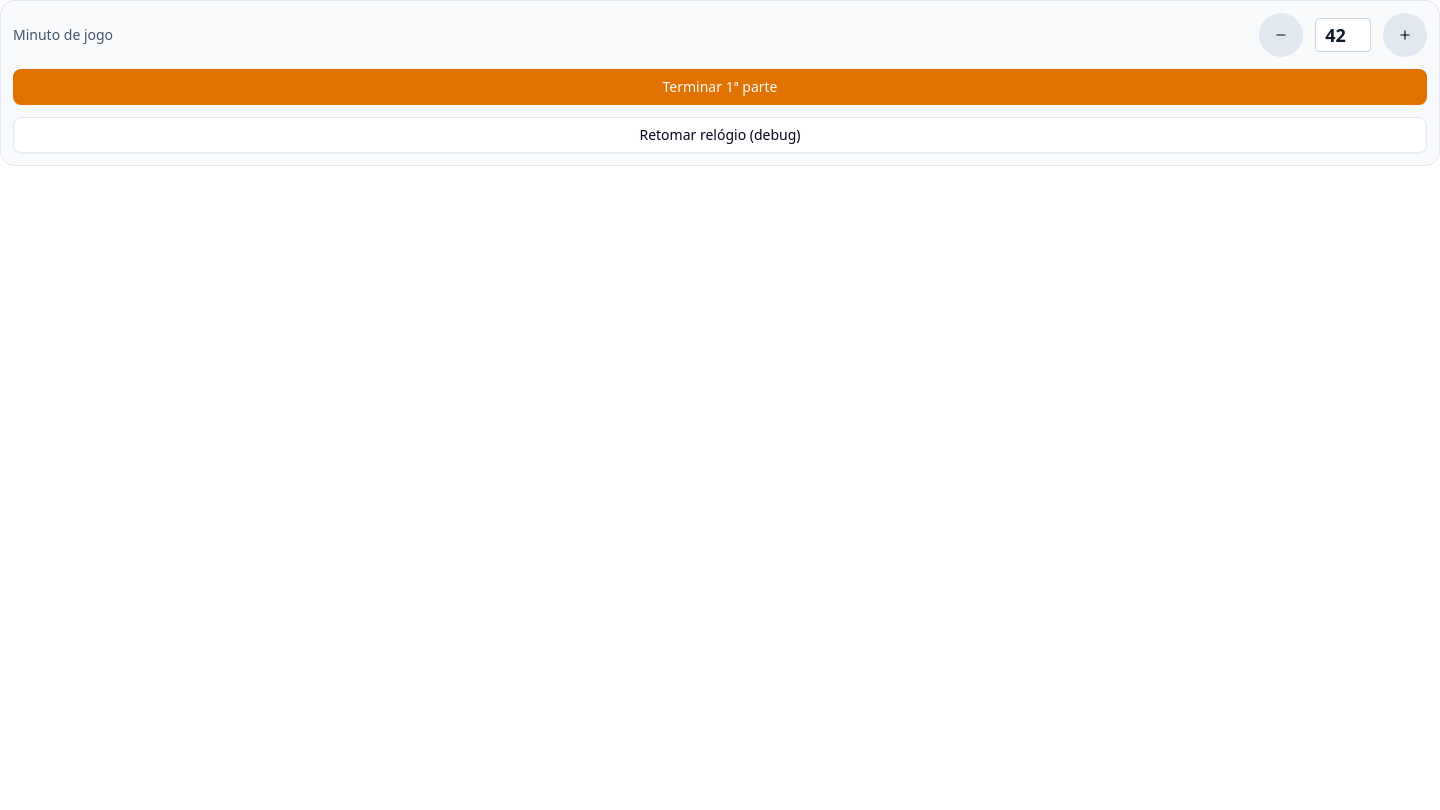
Test: ClockControls — confirmation dialog › [#3] premir Escape equivale a Cancelar
The image size is (1440, 810).
Click the button "Terminar 1ª parte".
click(720, 87)  # box [13, 69, 1427, 105]
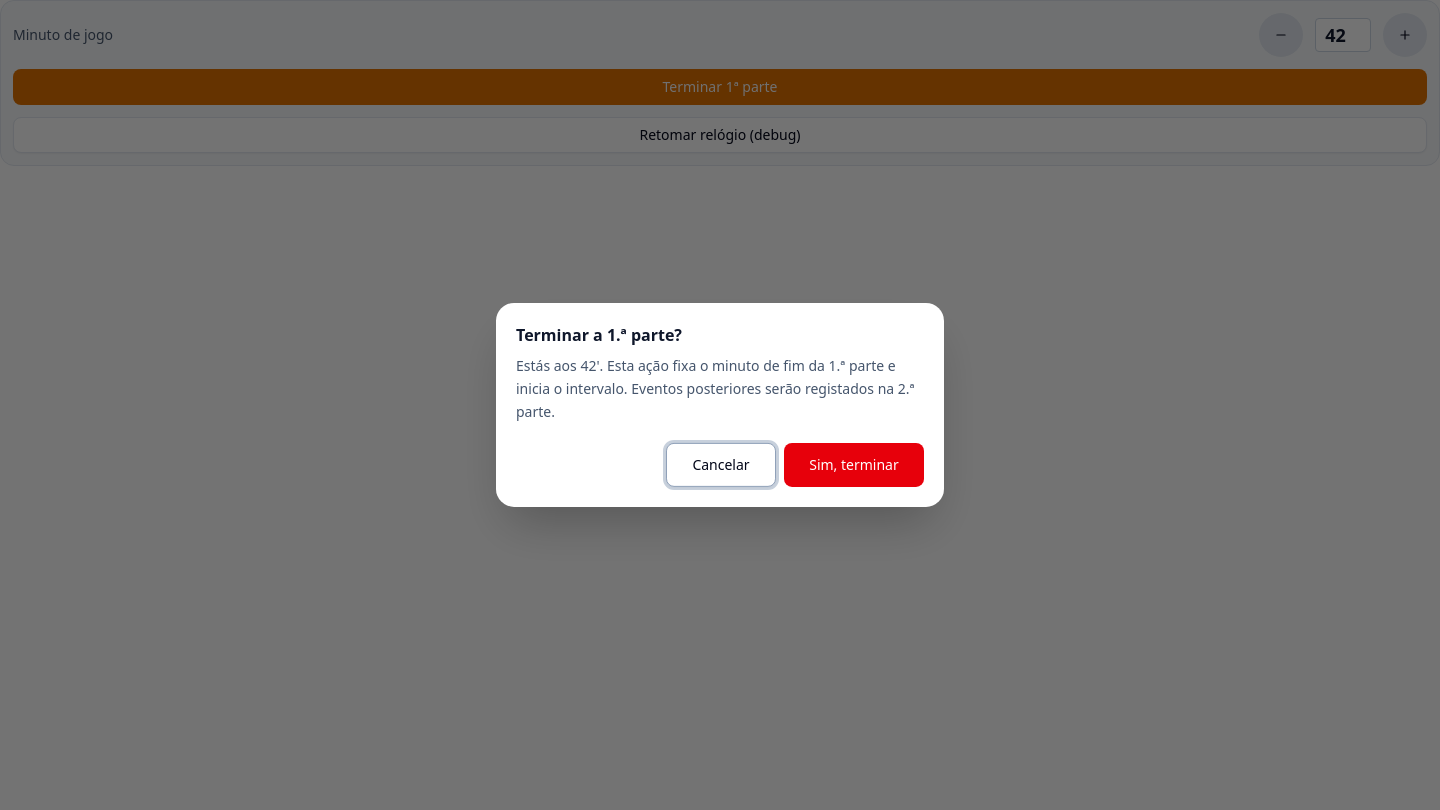
Expected: the dialog is shown, [496, 303, 944, 507]
Press Escape
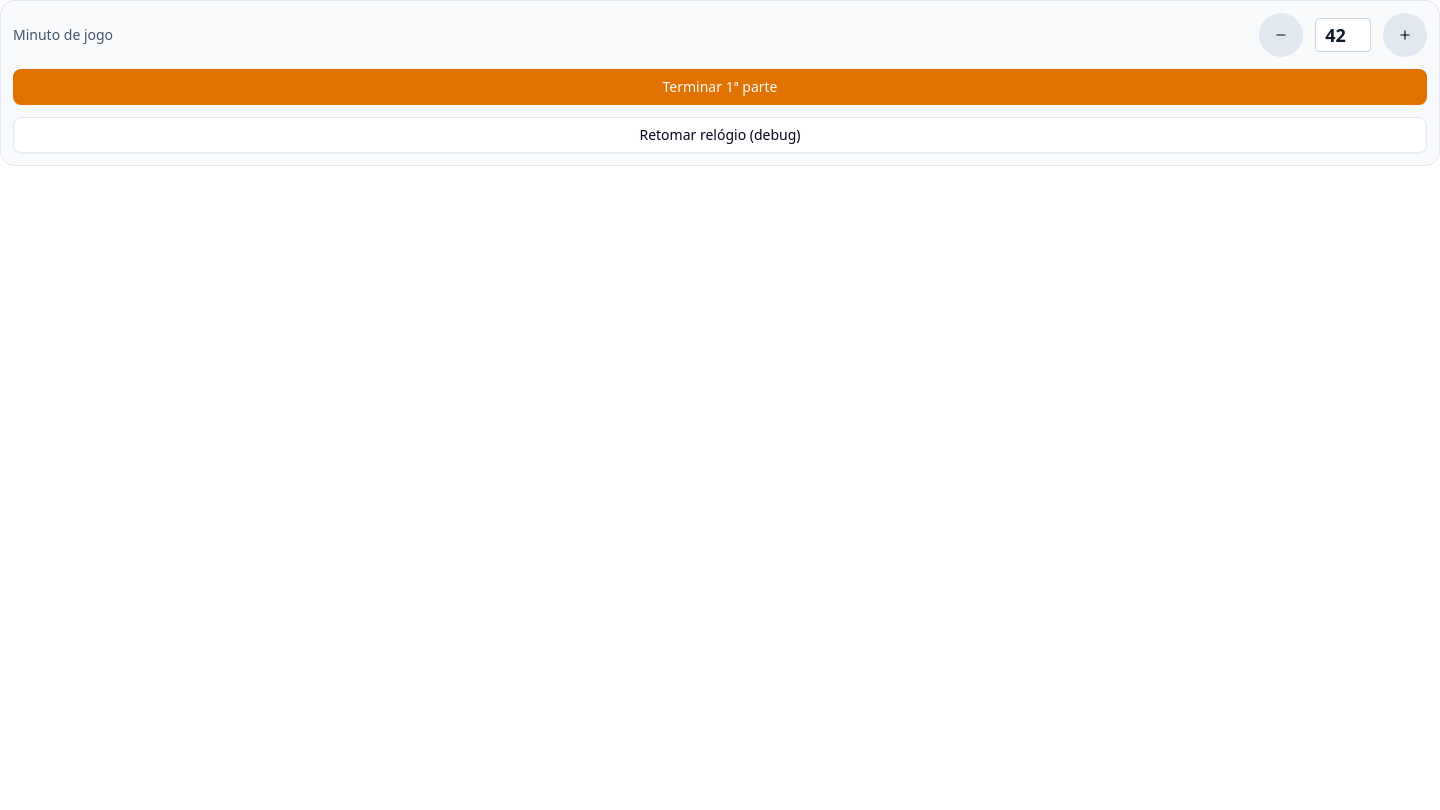
Expected: the dialog is gone
